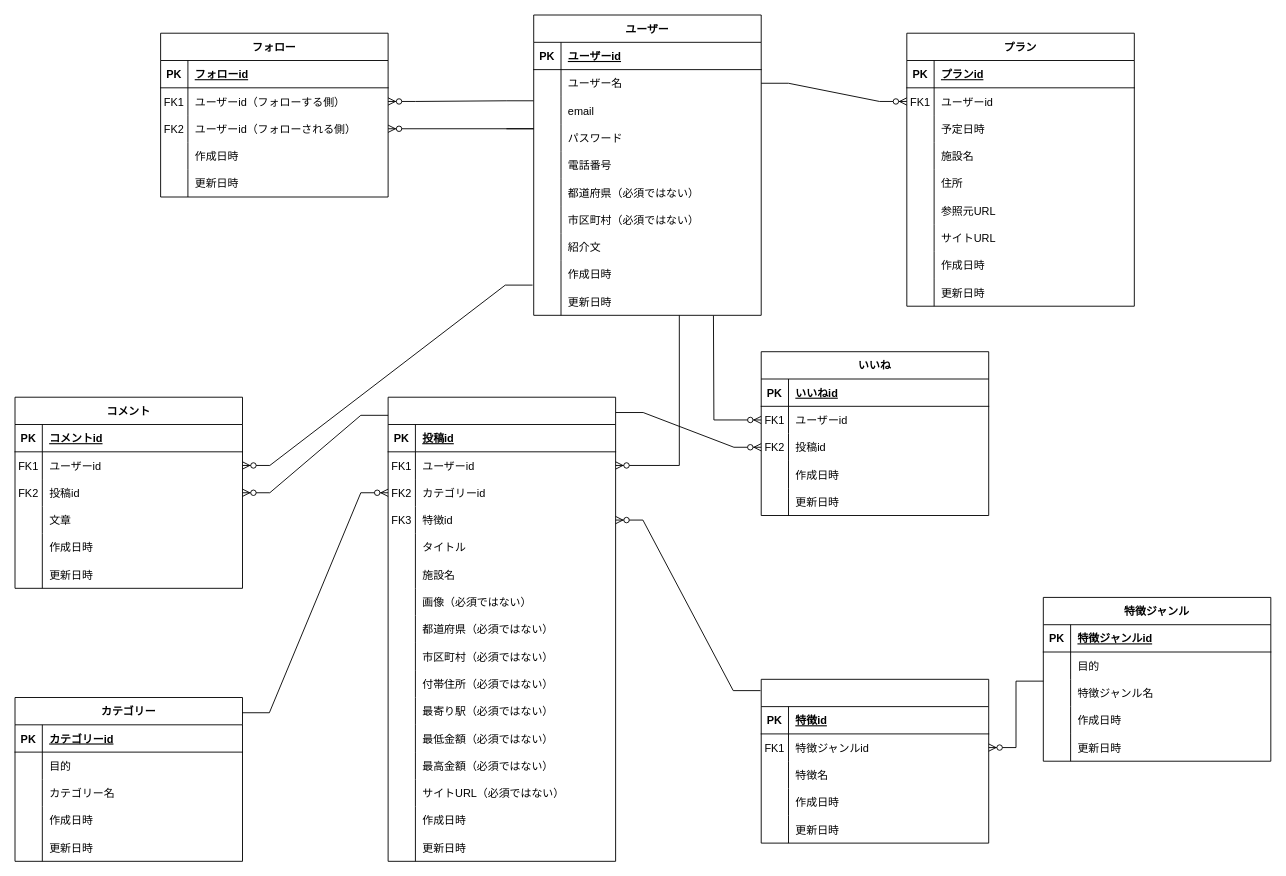
The diagram is 1286 pixels wide and 876 high, and some of its shapes have lost their labels. The box of each missing label's shape, as (x1, y1, x2, y2) in pixels:
投稿: (387, 396, 616, 861)
特徴: (760, 678, 989, 843)
